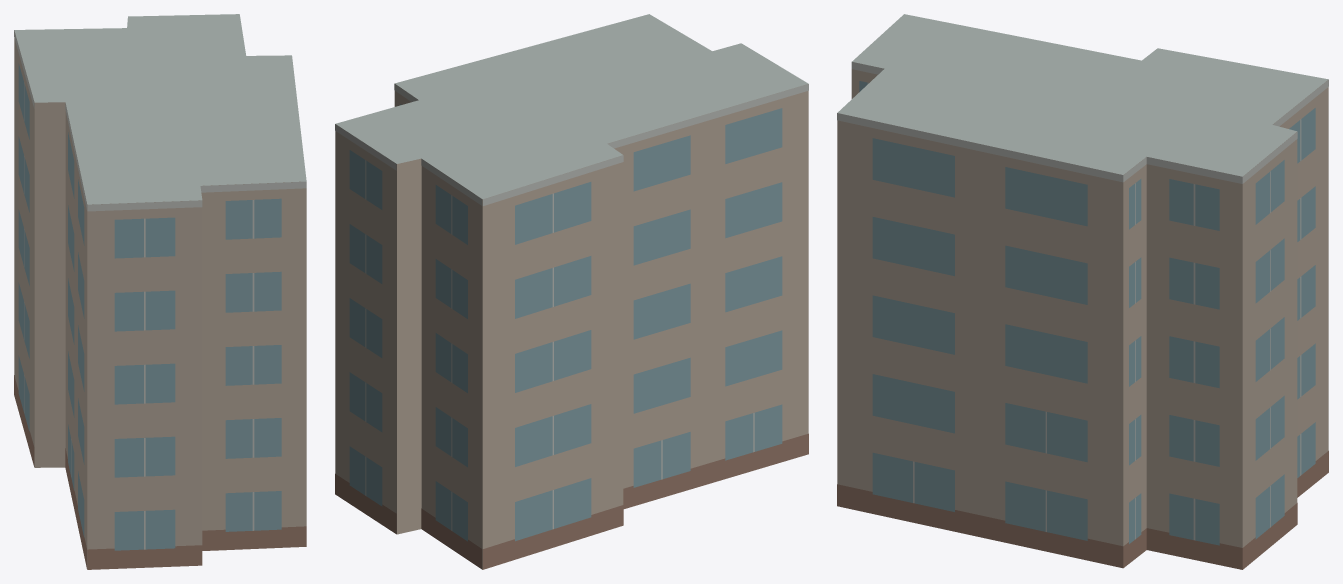
Rendered from survey-upis-32904455.glb.
3 views of the same model, side by side, from view 1: azimuth 30°, elevation 25°; view 2: azimuth 150°, elevation 25°; view 3: azimuth 270°, elevation 25° (orthographic). The views are drawn at different scales.
Parts seen in each view (by area): view 1: survey-upis-32904455.tmp; view 2: survey-upis-32904455.tmp; view 3: survey-upis-32904455.tmp.
Part boxes in pixels (x1=…): survey-upis-32904455.tmp: x1=14, y1=14, x2=306, y2=569; survey-upis-32904455.tmp: x1=335, y1=14, x2=808, y2=569; survey-upis-32904455.tmp: x1=837, y1=14, x2=1328, y2=569.
Bounding box in the file's own units: 11.54 × 13 × 14.74.
